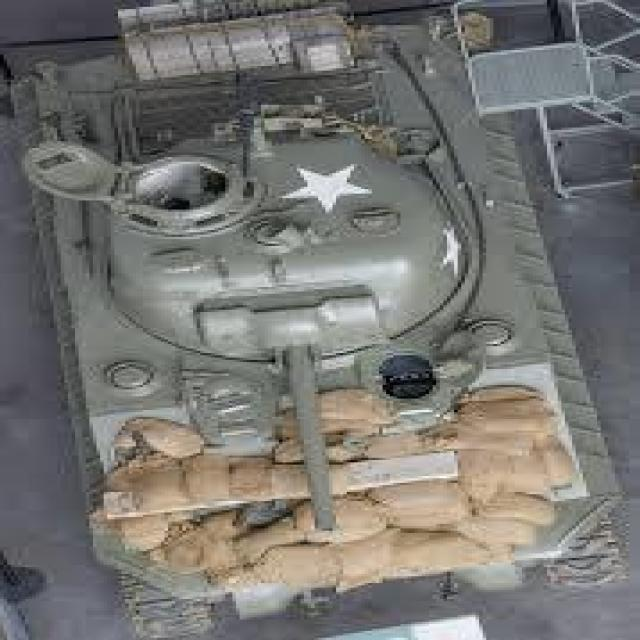Tanks: (25, 65, 608, 561)
